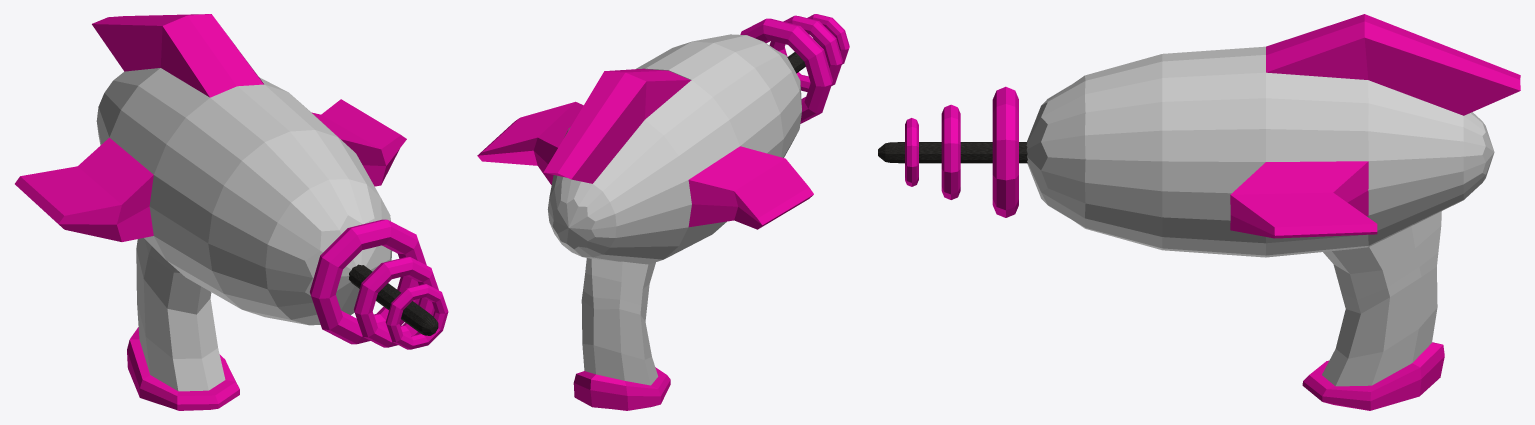
File: arma 1.fbx
3 views of the same model, side by side, from view 1: azimuth 30°, elevation 25°; view 2: azimuth 150°, elevation 25°; view 3: azimuth 270°, elevation 25° (orthographic). The views are drawn at different scales.
Parts seen in each view (by area): view 1: Cylinder.015; view 2: Cylinder.015; view 3: Cylinder.015.
Boxes of the visible parts, x1,y1,x2,y2 form: Cylinder.015: (15,14,448,410); Cylinder.015: (477,14,849,410); Cylinder.015: (878,14,1520,410).
Size of the model in its own units: 41.08 by 43.07 by 66.61.
